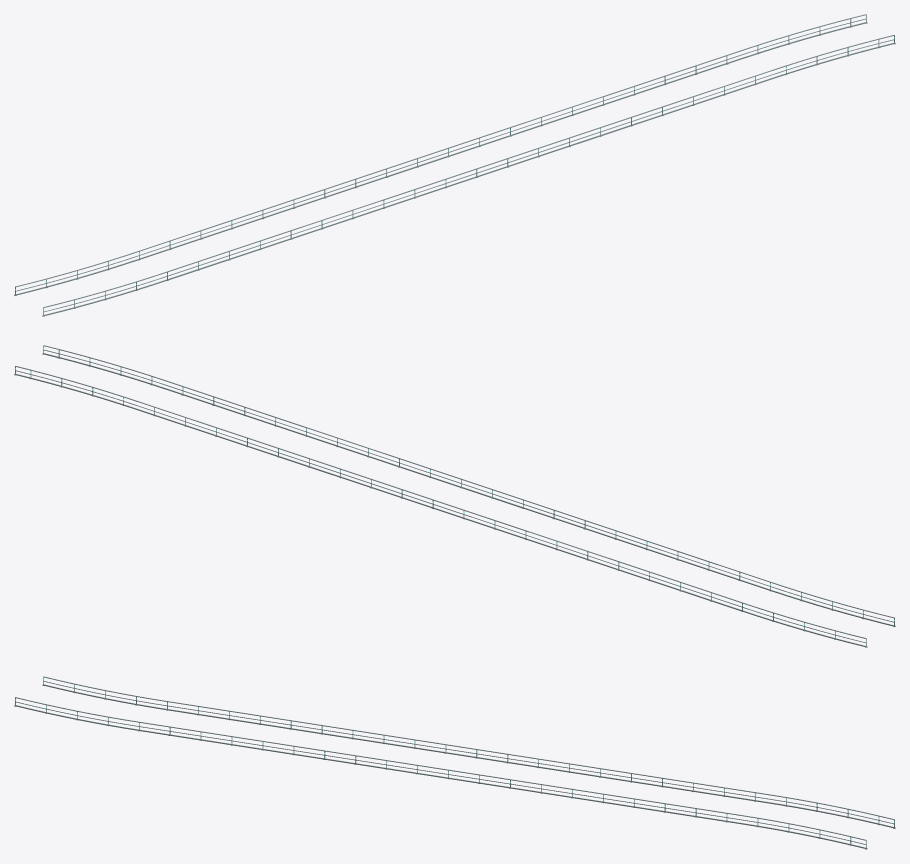
The model's file is RoadPlan_RampParapet_2L_Rise8_L110.glb.
3 renders of one model, top to bottom at view 1: azimuth 30°, elevation 25°; view 2: azimuth 150°, elevation 25°; view 3: azimuth 330°, elevation 25°, orthographic.
Visible parts, largest first — view 1: RoadPlan_RampParapet_2L_Rise8_L110_ConstantGrade_ToeRail_-1, RoadPlan_RampParapet_2L_Rise8_L110_ConstantGrade_ToeRail_1, RoadPlan_RampParapet_2L_Rise8_L110_ConstantGrade_TopRail_-1, RoadPlan_RampParapet_2L_Rise8_L110_ConstantGrade_TopRail_1, RoadPlan_RampParapet_2L_Rise8_L110_ConstantGrade_MidRail_1, RoadPlan_RampParapet_2L_Rise8_L110_ConstantGrade_MidRail_-1; view 2: RoadPlan_RampParapet_2L_Rise8_L110_ConstantGrade_ToeRail_1, RoadPlan_RampParapet_2L_Rise8_L110_ConstantGrade_ToeRail_-1, RoadPlan_RampParapet_2L_Rise8_L110_ConstantGrade_TopRail_1, RoadPlan_RampParapet_2L_Rise8_L110_ConstantGrade_TopRail_-1, RoadPlan_RampParapet_2L_Rise8_L110_ConstantGrade_MidRail_-1, RoadPlan_RampParapet_2L_Rise8_L110_ConstantGrade_MidRail_1; view 3: RoadPlan_RampParapet_2L_Rise8_L110_ConstantGrade_ToeRail_-1, RoadPlan_RampParapet_2L_Rise8_L110_ConstantGrade_ToeRail_1, RoadPlan_RampParapet_2L_Rise8_L110_ConstantGrade_TopRail_-1, RoadPlan_RampParapet_2L_Rise8_L110_ConstantGrade_TopRail_1, RoadPlan_RampParapet_2L_Rise8_L110_ConstantGrade_MidRail_1, RoadPlan_RampParapet_2L_Rise8_L110_ConstantGrade_MidRail_-1.
Part boxes in pixels (x1=…): RoadPlan_RampParapet_2L_Rise8_L110_ConstantGrade_ToeRail_-1: x1=168, y1=78, x2=770, y2=279; RoadPlan_RampParapet_2L_Rise8_L110_ConstantGrade_ToeRail_1: x1=139, y1=58, x2=742, y2=259; RoadPlan_RampParapet_2L_Rise8_L110_ConstantGrade_TopRail_-1: x1=167, y1=70, x2=770, y2=271; RoadPlan_RampParapet_2L_Rise8_L110_ConstantGrade_TopRail_1: x1=139, y1=50, x2=742, y2=251; RoadPlan_RampParapet_2L_Rise8_L110_ConstantGrade_MidRail_1: x1=139, y1=54, x2=742, y2=255; RoadPlan_RampParapet_2L_Rise8_L110_ConstantGrade_MidRail_-1: x1=167, y1=75, x2=770, y2=276; RoadPlan_RampParapet_2L_Rise8_L110_ConstantGrade_ToeRail_1: x1=139, y1=409, x2=741, y2=610; RoadPlan_RampParapet_2L_Rise8_L110_ConstantGrade_ToeRail_-1: x1=167, y1=389, x2=770, y2=590; RoadPlan_RampParapet_2L_Rise8_L110_ConstantGrade_TopRail_1: x1=139, y1=401, x2=742, y2=602; RoadPlan_RampParapet_2L_Rise8_L110_ConstantGrade_TopRail_-1: x1=167, y1=381, x2=770, y2=582; RoadPlan_RampParapet_2L_Rise8_L110_ConstantGrade_MidRail_-1: x1=167, y1=385, x2=770, y2=586; RoadPlan_RampParapet_2L_Rise8_L110_ConstantGrade_MidRail_1: x1=139, y1=406, x2=742, y2=607; RoadPlan_RampParapet_2L_Rise8_L110_ConstantGrade_ToeRail_-1: x1=139, y1=729, x2=742, y2=824; RoadPlan_RampParapet_2L_Rise8_L110_ConstantGrade_ToeRail_1: x1=167, y1=709, x2=770, y2=803; RoadPlan_RampParapet_2L_Rise8_L110_ConstantGrade_TopRail_-1: x1=139, y1=721, x2=742, y2=815; RoadPlan_RampParapet_2L_Rise8_L110_ConstantGrade_TopRail_1: x1=167, y1=701, x2=770, y2=795; RoadPlan_RampParapet_2L_Rise8_L110_ConstantGrade_MidRail_1: x1=167, y1=705, x2=770, y2=799; RoadPlan_RampParapet_2L_Rise8_L110_ConstantGrade_MidRail_-1: x1=139, y1=726, x2=741, y2=820.
Size of the model in its own units: 110 by 9.1 by 6.56.
